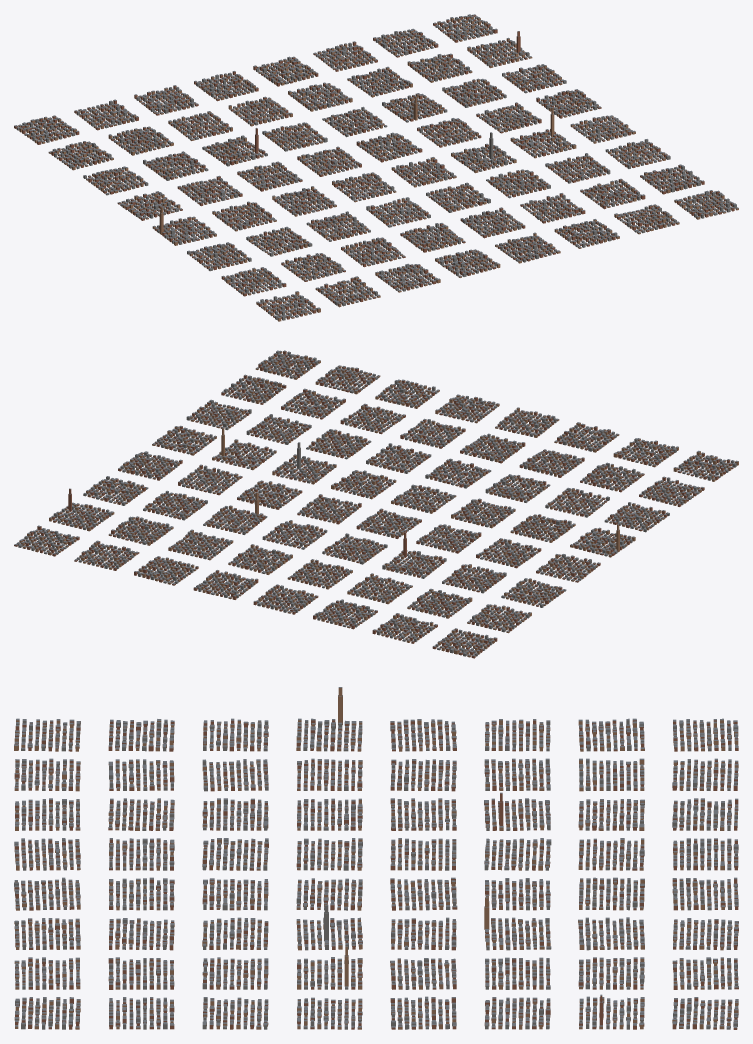
File: old_town_dense_impostor.obj
The picture shows the model from 3 angles, top to bottom: view 1: azimuth 30°, elevation 25°; view 2: azimuth 150°, elevation 25°; view 3: azimuth 270°, elevation 25°; orthographic projection. The views are drawn at different scales.
Visible parts, largest first — view 1: old_town_dense_impostor; view 2: old_town_dense_impostor; view 3: old_town_dense_impostor.
Part boxes in pixels (left/top/right/bottom): old_town_dense_impostor: left=14, top=14, right=738, bottom=321; old_town_dense_impostor: left=14, top=350, right=738, bottom=658; old_town_dense_impostor: left=14, top=687, right=738, bottom=1029.
Bounding box in the file's own units: 2121 × 128 × 2121.
